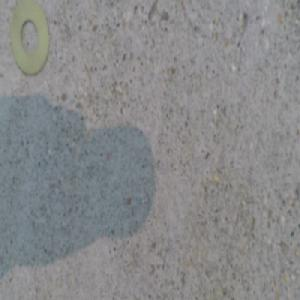Washer: (11, 3, 50, 73)
